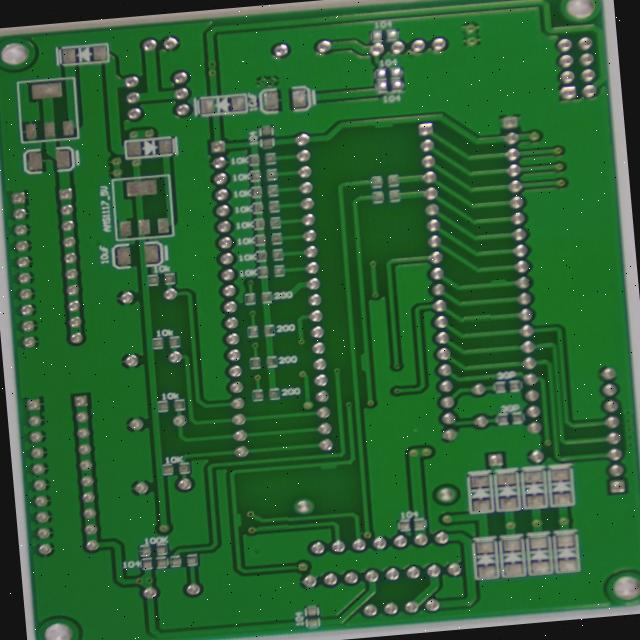spur: (324, 129, 357, 152), (305, 388, 328, 419), (257, 510, 288, 530), (462, 307, 491, 321), (154, 570, 174, 590)
